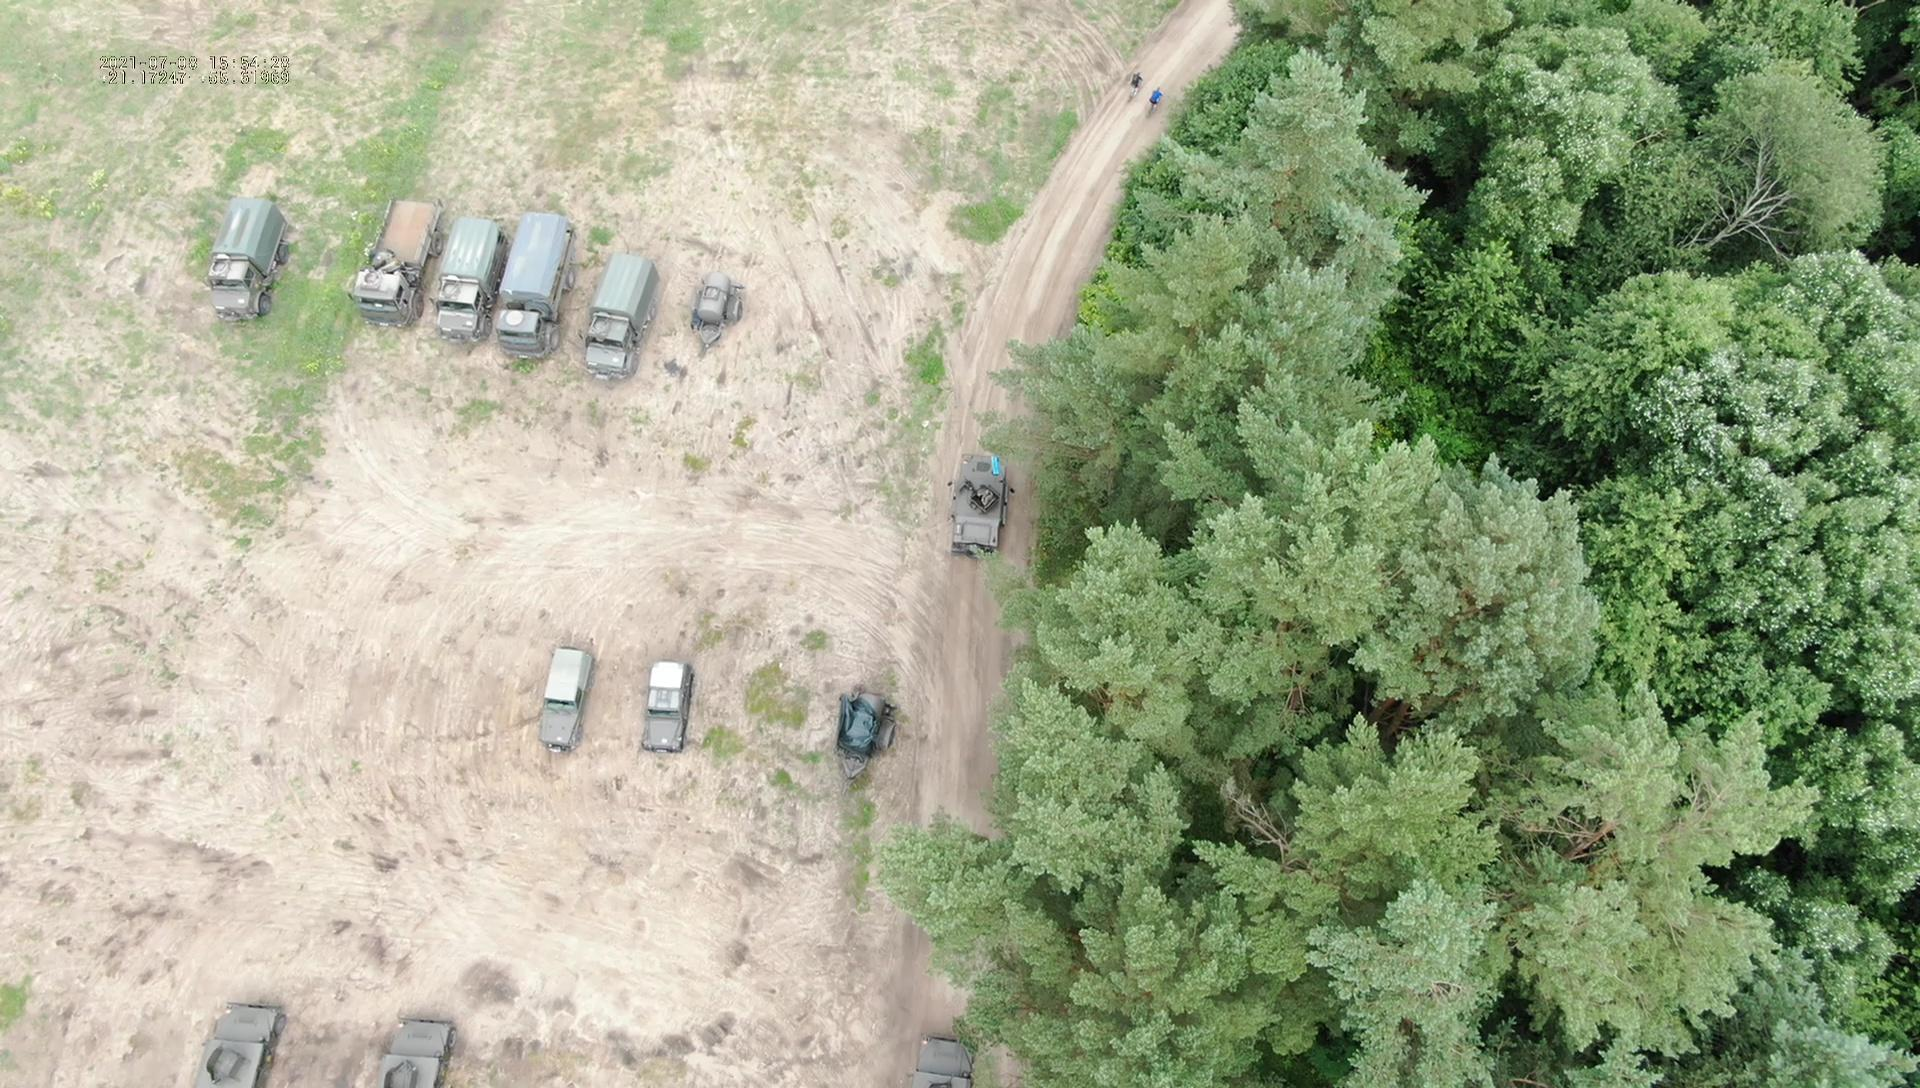Soldier: (601, 70, 832, 313), (1153, 645, 1360, 878), (298, 766, 442, 877), (873, 382, 971, 492), (1134, 935, 1232, 1039), (968, 677, 1062, 773), (889, 530, 985, 607), (865, 607, 945, 675)
